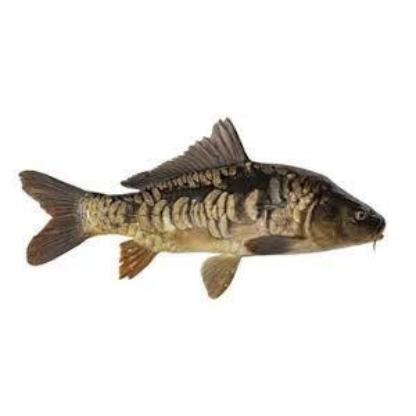ikan-mas: (16, 134, 390, 286)
